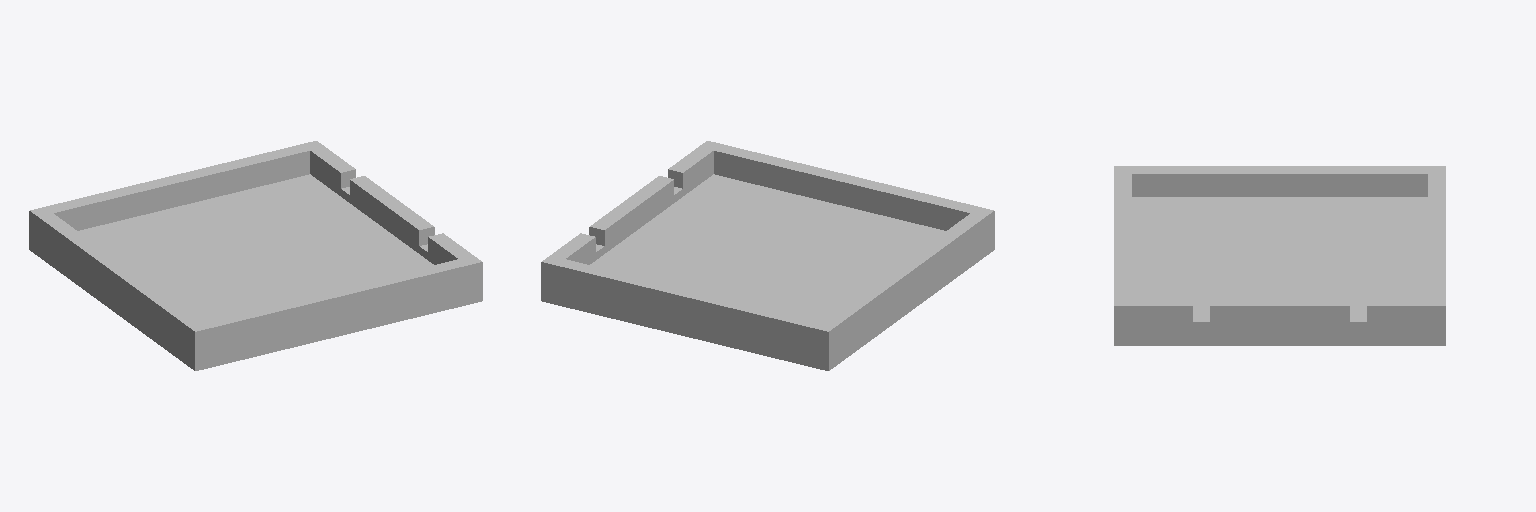
The model's file is pizza-1.obj.
3 renders of one model, left to right at view 1: azimuth 30°, elevation 25°; view 2: azimuth 150°, elevation 25°; view 3: azimuth 270°, elevation 25°, orthographic.
Visible parts, largest first — view 1: object 1; view 2: object 1; view 3: object 1.
Boxes of the visible parts, <box> form: object 1: <box>29,141,482,370</box>; object 1: <box>541,141,994,370</box>; object 1: <box>1114,166,1445,345</box>.
Bounding box in the file's own units: 3.8 × 0.5 × 3.8.